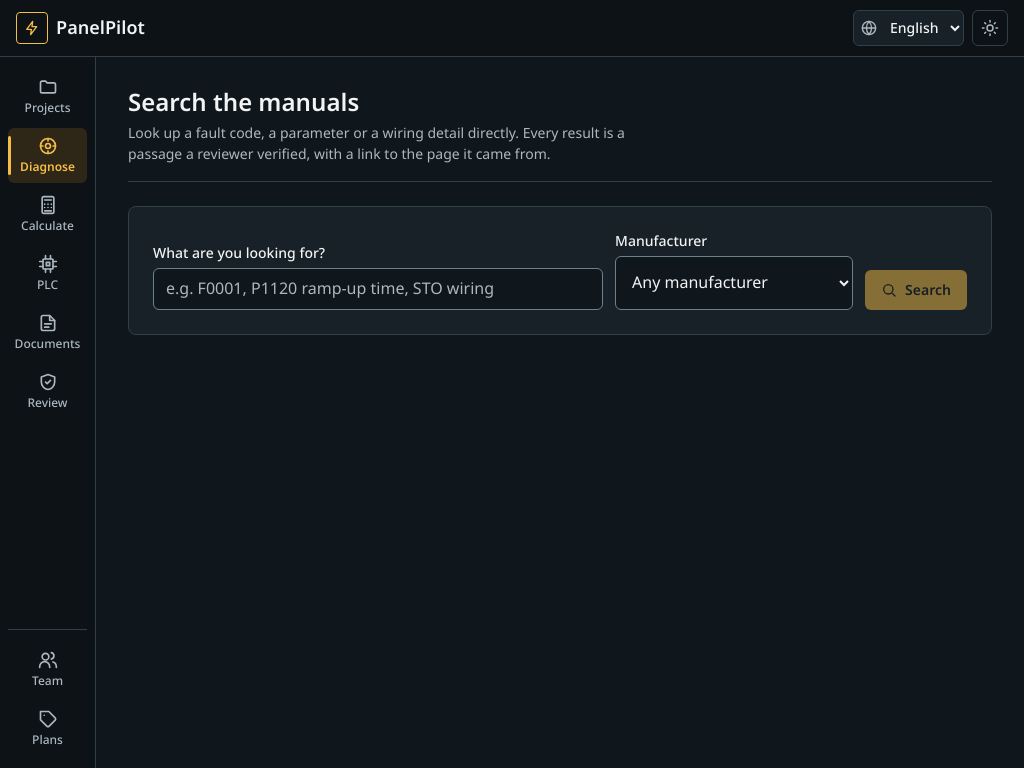
Test case: the search page › narrows to one manufacturer when asked
Select "Siemens" in the dropdown labelled "Manufacturer" at {"x": 734, "y": 283}, box [615, 256, 853, 310]
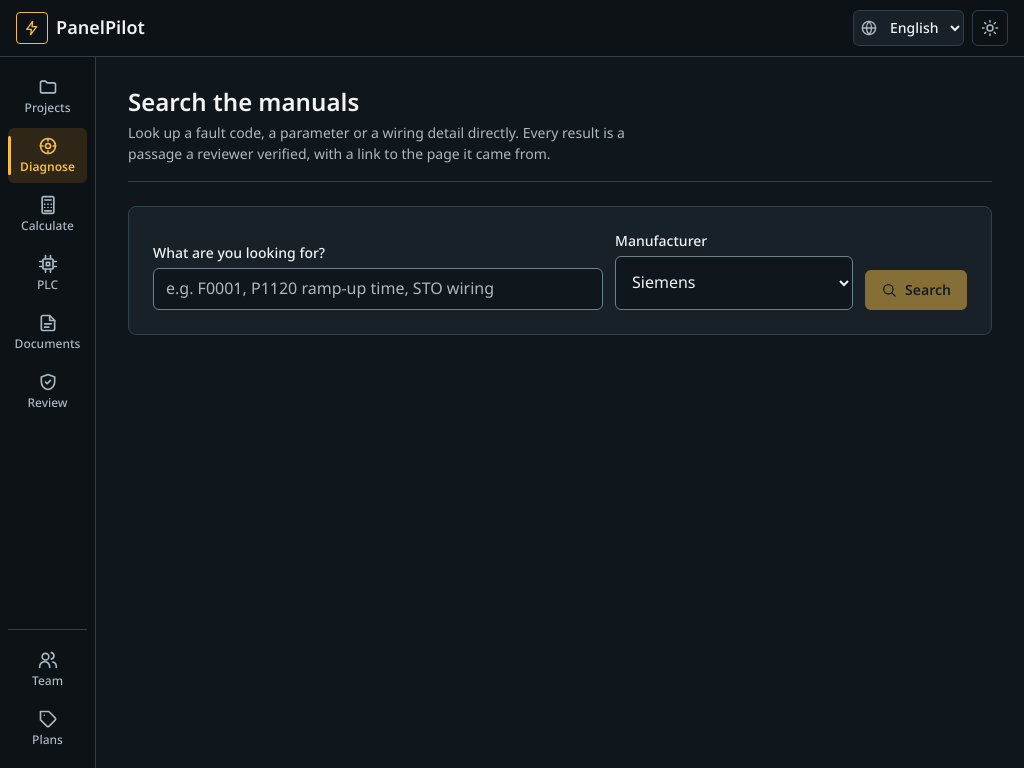
Type "F30001" into the search field labelled "What are you looking for?" at {"x": 378, "y": 289}, box [153, 268, 603, 310]
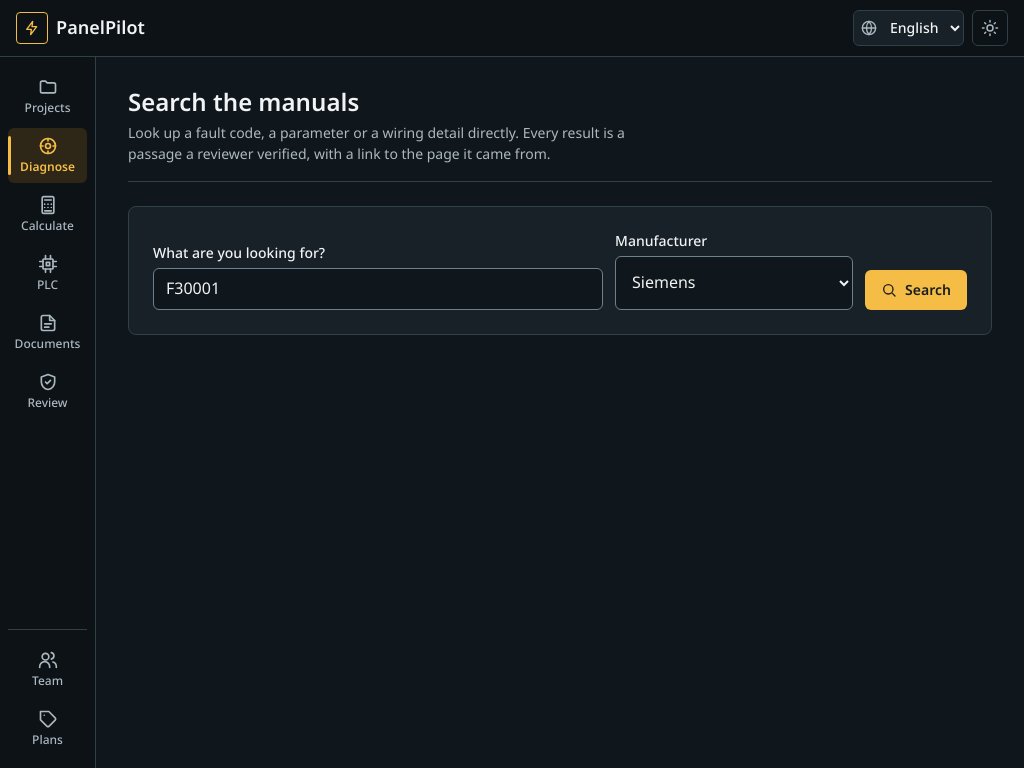
Result: the button "Search" is enabled
Click the button "Search" at {"x": 916, "y": 290}, box [865, 270, 967, 310]
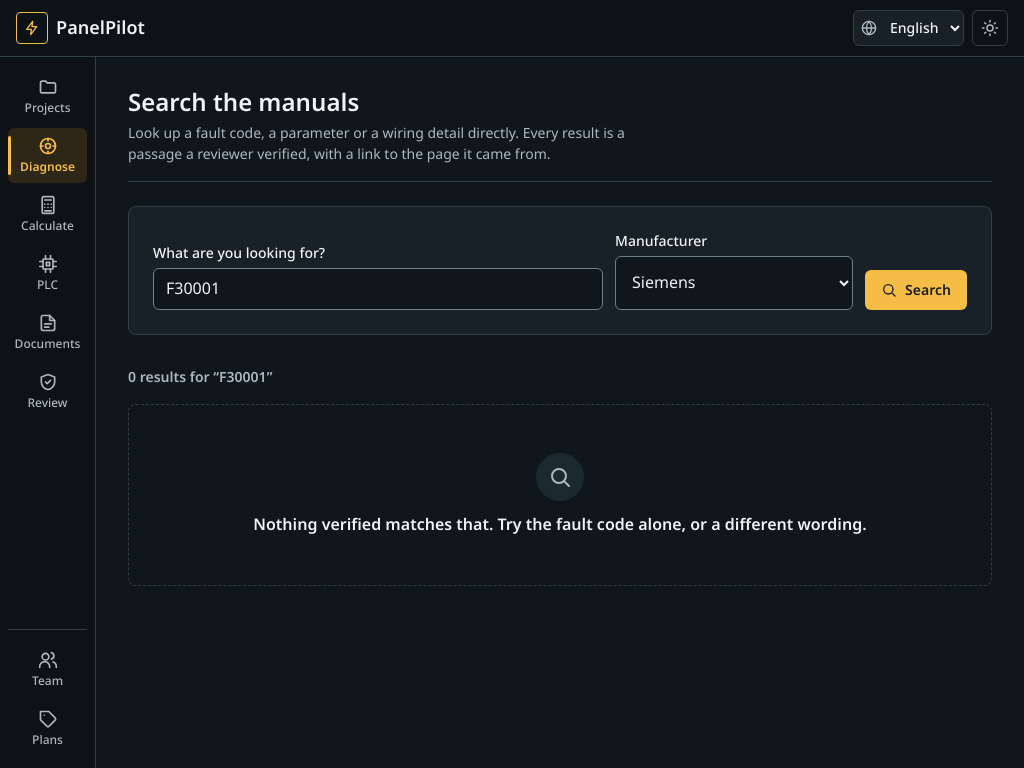
Result: the element with test id "search-empty" shows "Nothing verified" at [253, 508, 867, 542]
